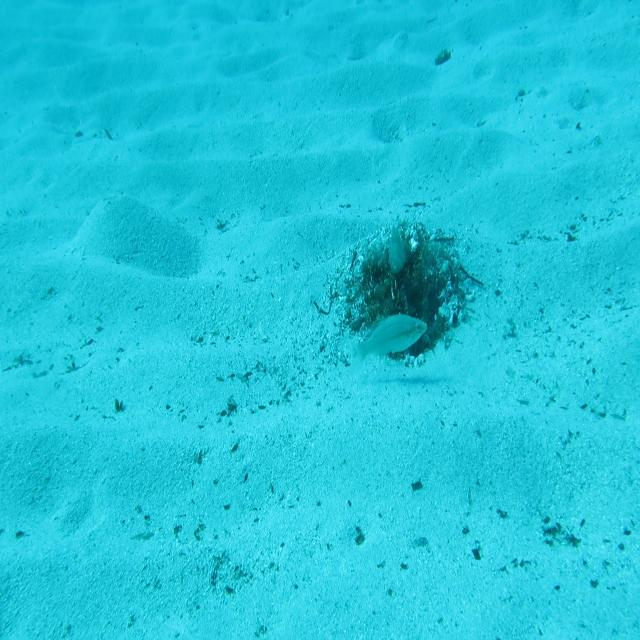NIP_CORE: (386, 220, 409, 280)
female: (352, 310, 428, 370)
nest: (349, 224, 481, 376)
